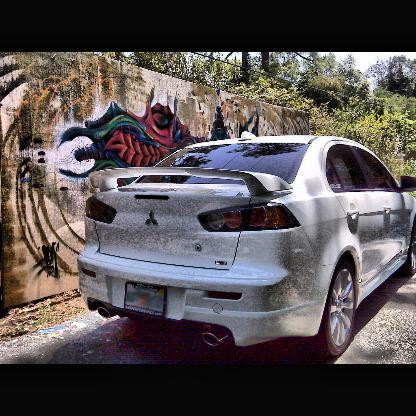Mitsubishi Lancer Sedan 2012: (80, 133, 416, 358)
